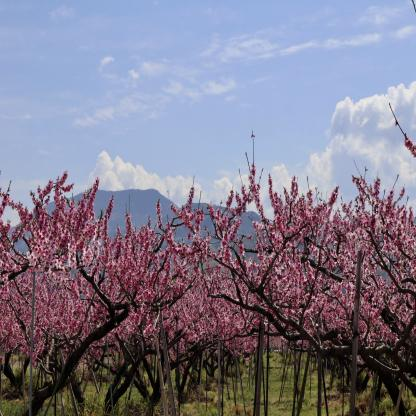Momo: (198, 103, 416, 379), (1, 172, 207, 378)
